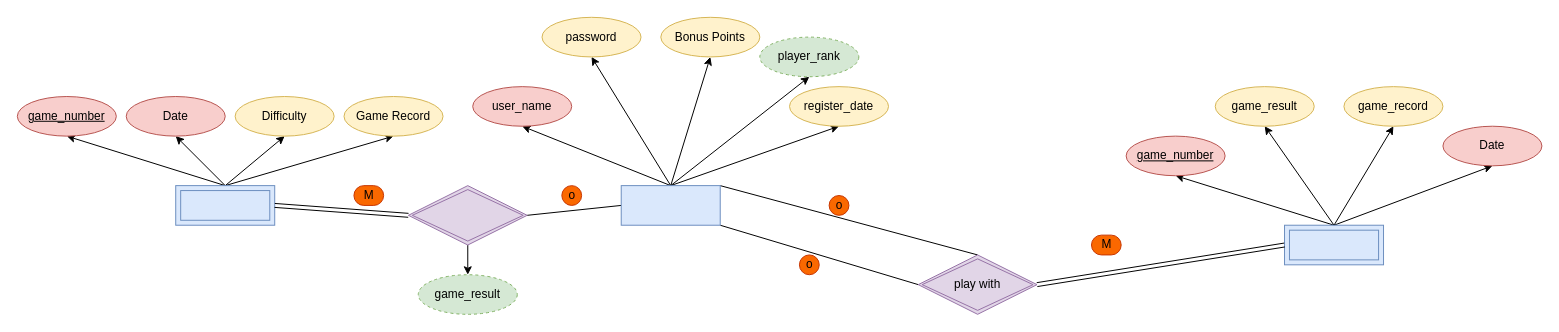
The diagram is 1559 pixels wide and 332 high, and some of its shapes have lost their labels. The centre of each missing label's shape, as x and y in pixels:
Mutli Mode Game: the point at 1334,244
play: the point at 467,215
Player: the point at 670,205
Single Mode Game: the point at 225,205
